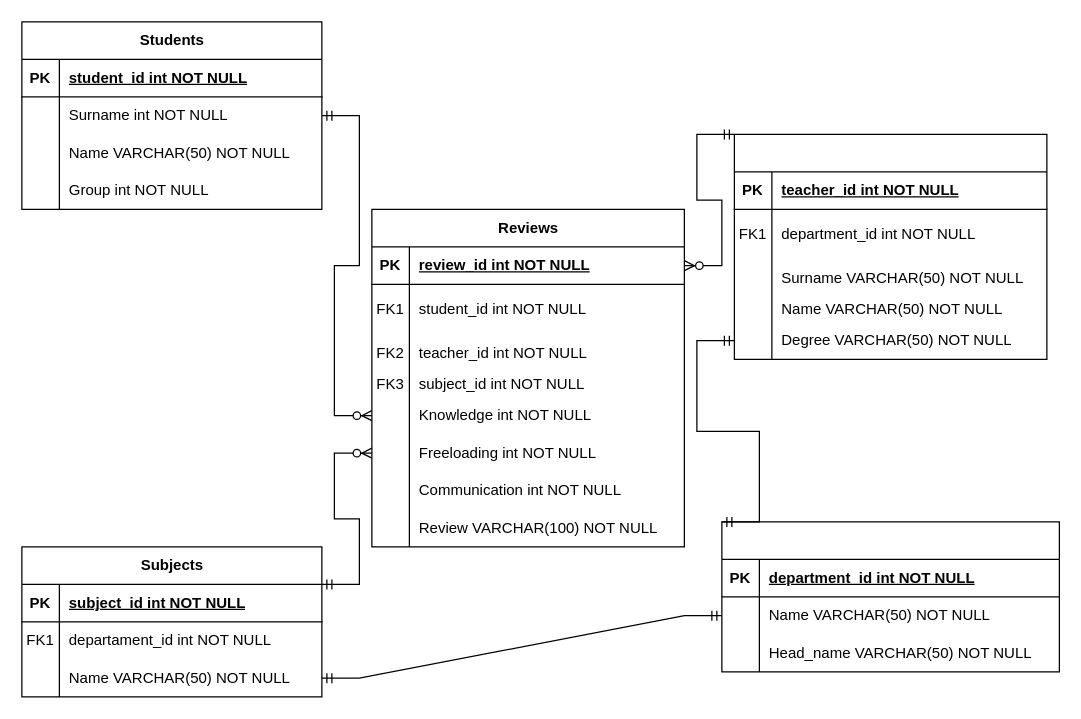
This 1081x719 diagram has some shape labels left out. Here are the shapes that lost their labels. From the top down, the box of each, then its label:
(733, 133, 1047, 359): Teachers
(721, 521, 1059, 672): Departments
